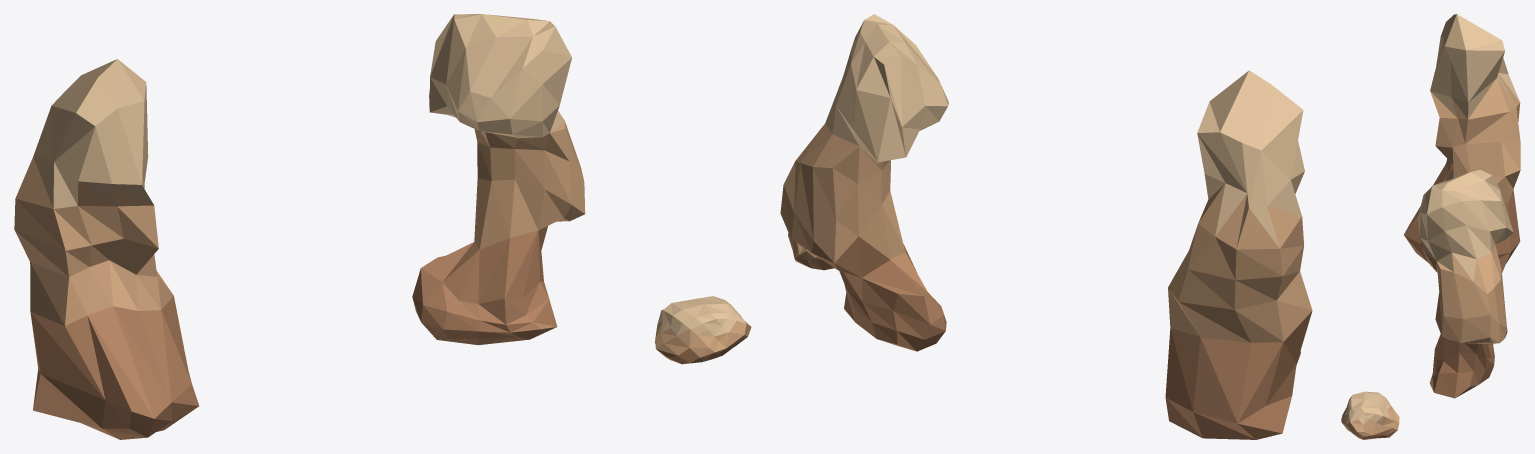
Rendered from canyon-1-0.glb.
3 renders of one model, left to right at view 1: azimuth 30°, elevation 25°; view 2: azimuth 150°, elevation 25°; view 3: azimuth 270°, elevation 25°, orthographic. The views are drawn at different scales.
Visible parts, largest first — view 1: canyon-1-0; view 2: canyon-1-0; view 3: canyon-1-0.
Boxes of the visible parts, box(x1,y1,x2,y2) form: canyon-1-0: box(14, 14, 751, 439); canyon-1-0: box(780, 14, 1312, 439); canyon-1-0: box(1341, 14, 1520, 439).
Size of the model in its own units: 49.13 by 28 by 18.1.
